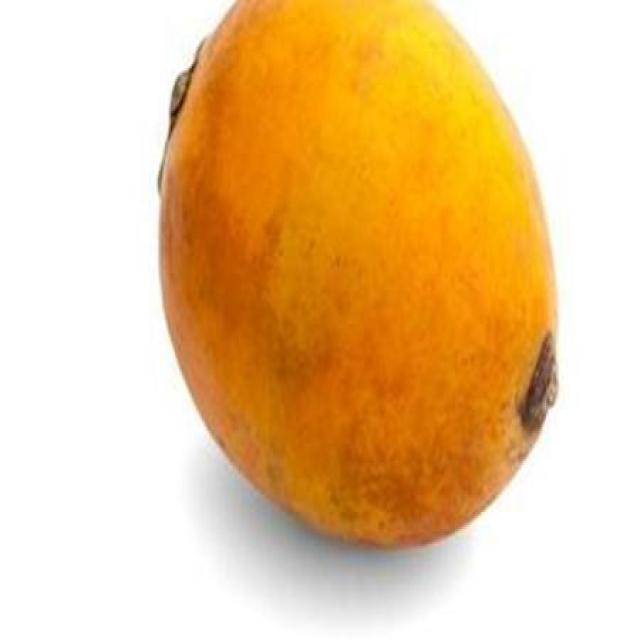good: (156, 0, 559, 553)
